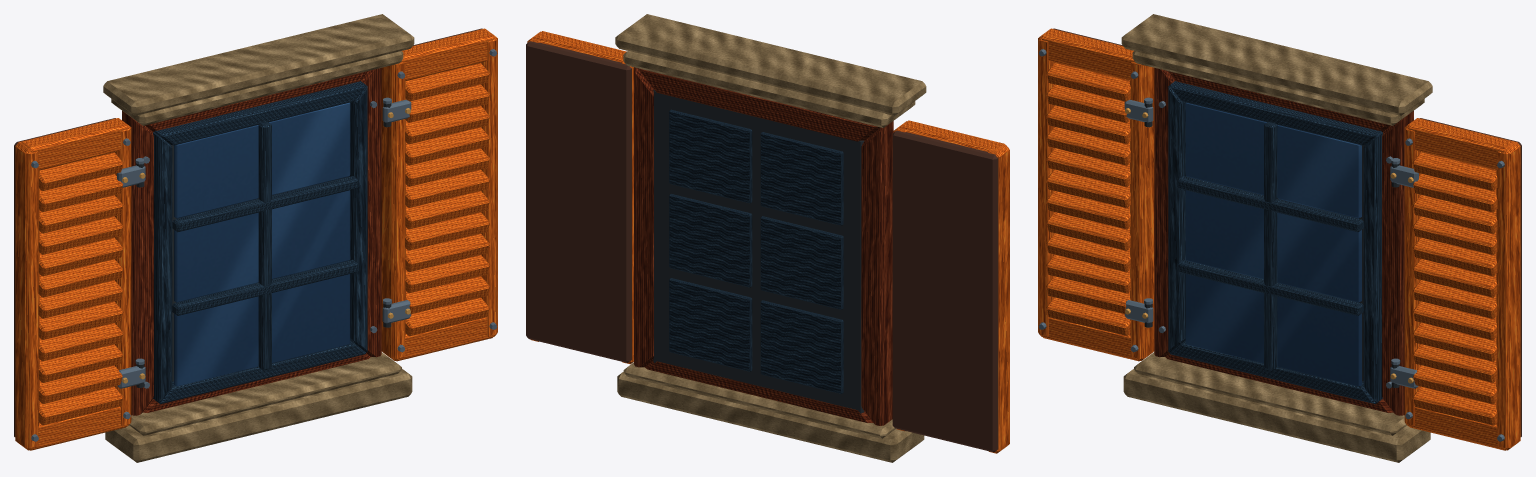
The model's file is window-shutter-module.glb.
3 views of the same model, side by side, from view 1: azimuth 30°, elevation 25°; view 2: azimuth 150°, elevation 25°; view 3: azimuth 330°, elevation 25° (orthographic).
Parts seen in each view (by area): view 1: window-shutter-module; view 2: window-shutter-module; view 3: window-shutter-module.
Boxes of the visible parts, x1,y1,x2,y2 form: window-shutter-module: (14, 14, 497, 462); window-shutter-module: (526, 14, 1009, 462); window-shutter-module: (1038, 14, 1521, 462).
Size of the model in its own units: 2.35 by 1.72 by 0.295.
Materials: 9 (5 with a texture image).
